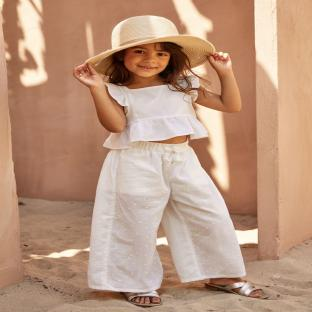Human: (73, 16, 266, 306)
